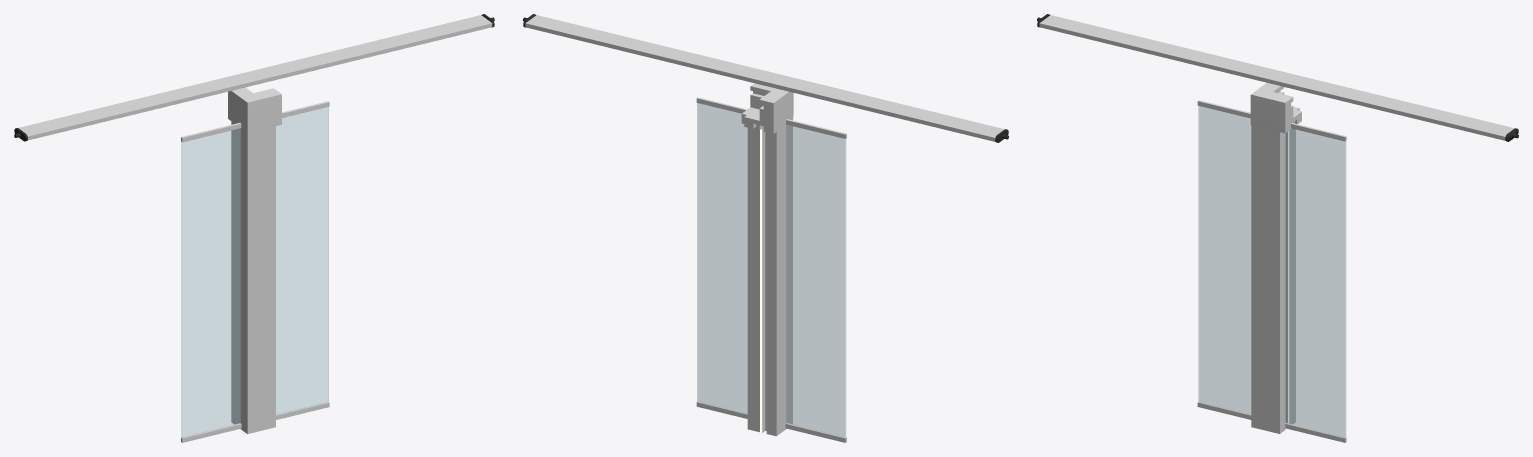
The model's file is pergola-lib.glb.
3 renders of one model, left to right at view 1: azimuth 30°, elevation 25°; view 2: azimuth 150°, elevation 25°; view 3: azimuth 330°, elevation 25°, orthographic.
Visible parts, largest first — view 1: glass_pane, col_double, slat, corner_node, glass_frame; view 2: glass_pane, col_single, slat, col_double, corner_node, glass_frame, col_led; view 3: glass_pane, col_double, slat, col_single, corner_node, glass_frame, col_led.
Boxes of the visible parts, bbox=[...] form: glass_pane: bbox=[181, 107, 328, 441]; col_double: bbox=[231, 121, 275, 433]; slat: bbox=[18, 15, 492, 140]; corner_node: bbox=[228, 87, 281, 132]; glass_frame: bbox=[181, 101, 329, 442]; glass_pane: bbox=[697, 103, 845, 437]; col_single: bbox=[747, 124, 776, 435]; slat: bbox=[525, 15, 1004, 141]; col_double: bbox=[762, 125, 792, 436]; corner_node: bbox=[741, 83, 793, 133]; glass_frame: bbox=[696, 97, 846, 442]; col_led: bbox=[760, 129, 762, 432]; glass_pane: bbox=[1198, 106, 1345, 437]; col_double: bbox=[1251, 125, 1287, 433]; slat: bbox=[1039, 15, 1514, 140]; col_single: bbox=[1279, 128, 1295, 433]; corner_node: bbox=[1250, 83, 1301, 133]; glass_frame: bbox=[1197, 100, 1346, 442]; col_led: bbox=[1288, 131, 1289, 423].
Size of the model in its own units: 3.09 by 2.15 by 0.2192.
